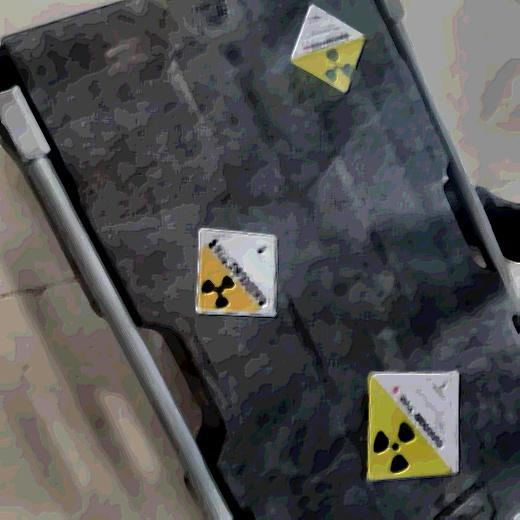radioactive: (366, 369, 461, 482), (289, 2, 369, 95), (195, 229, 277, 318)
